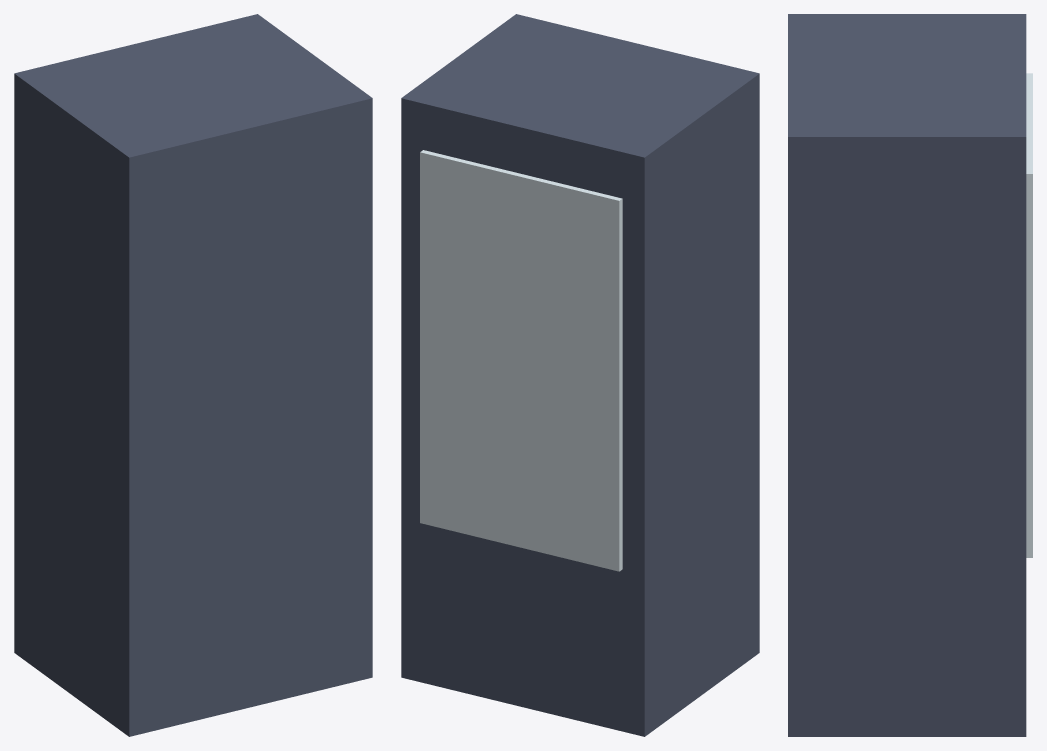
File: automat_przekaski.fbx
3 renders of one model, left to right at view 1: azimuth 30°, elevation 25°; view 2: azimuth 150°, elevation 25°; view 3: azimuth 270°, elevation 25°, orthographic. The views are drawn at different scales.
Parts seen in each view (by area): view 1: Cube; view 2: Cube; view 3: Cube.
Boxes of the visible parts, x1,y1,x2,y2 form: Cube: (14, 14, 372, 736); Cube: (401, 14, 759, 736); Cube: (788, 14, 1032, 736).
Bounding box in the file's own units: 2.2 × 5 × 1.85.
